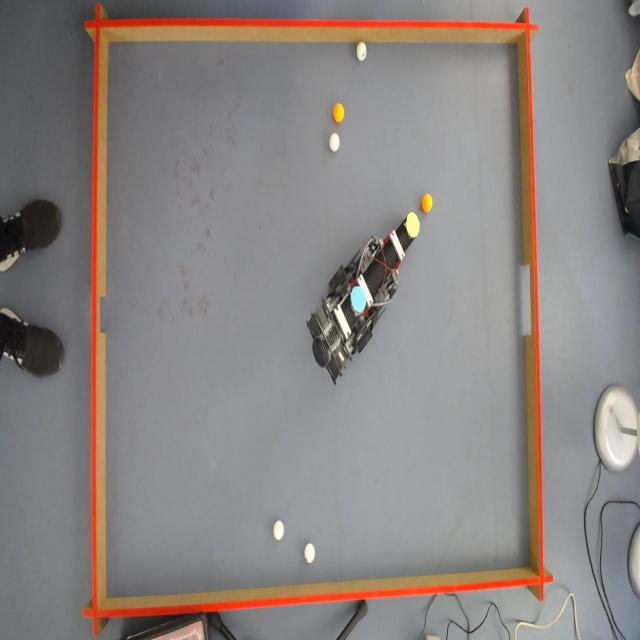orange: (419, 193, 434, 213), (333, 102, 345, 121)
robot: (306, 207, 419, 381)
robot-front: (404, 211, 423, 239)
robot-rear: (350, 284, 368, 313)
white: (354, 41, 368, 63), (272, 518, 286, 540), (304, 543, 317, 564), (330, 132, 340, 152)
